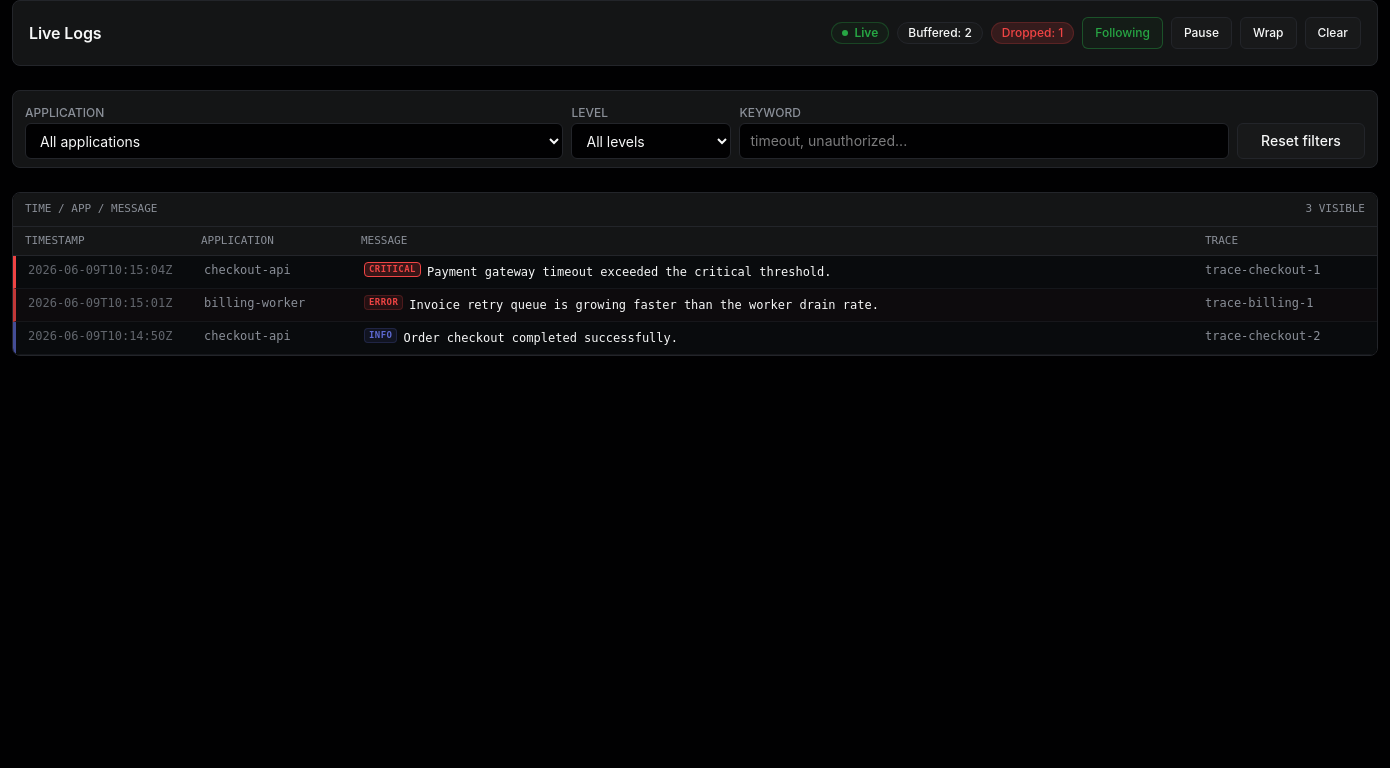
LiveLogsPage › opens the detail drawer from a selected row
Click the text "Payment gateway timeout exceeded the critical threshold." at [629, 272], box [427,262,832,282]
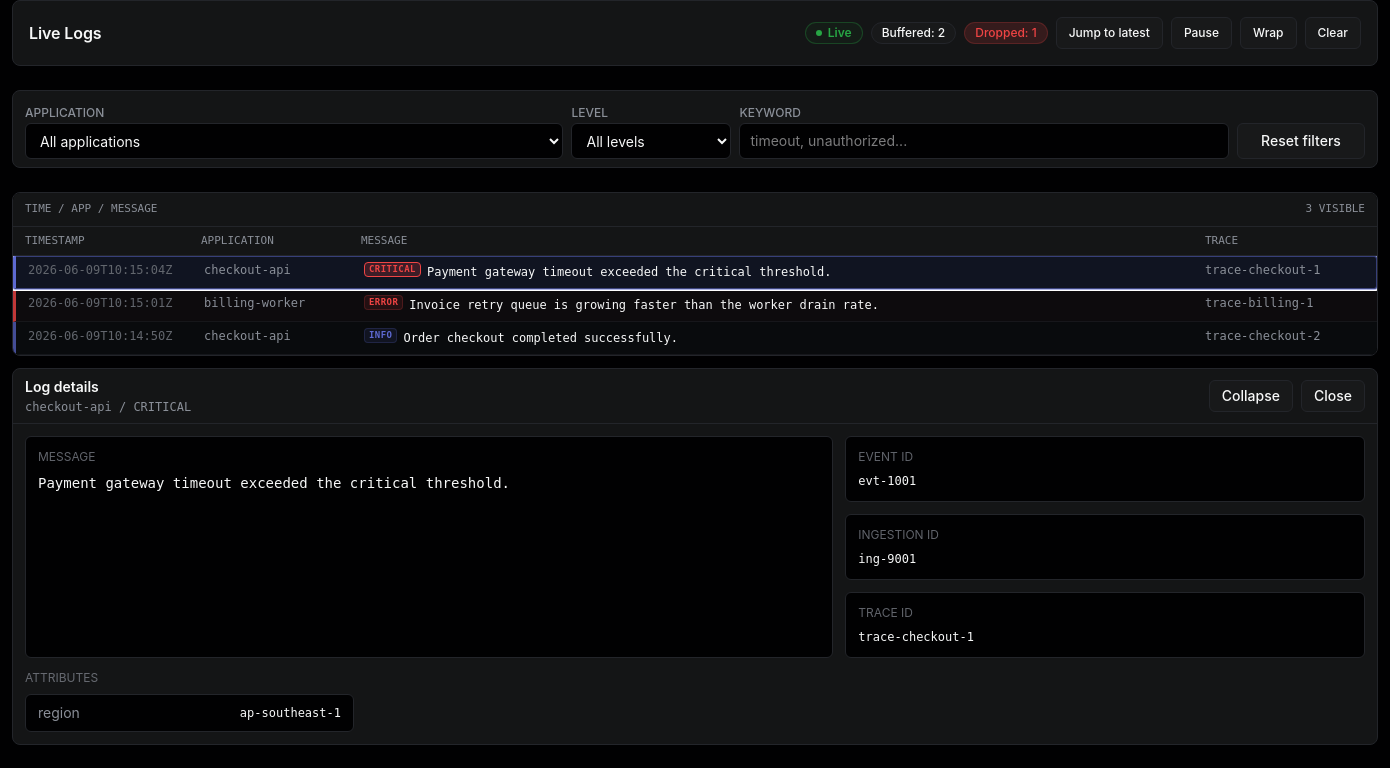
Expected: the element labelled "Log details" is shown, [12,368,1378,745]
Expected: the text "evt-1001" is shown, [858,474,916,488]
Expected: the text "ing-9001" is shown, [858,552,916,566]
